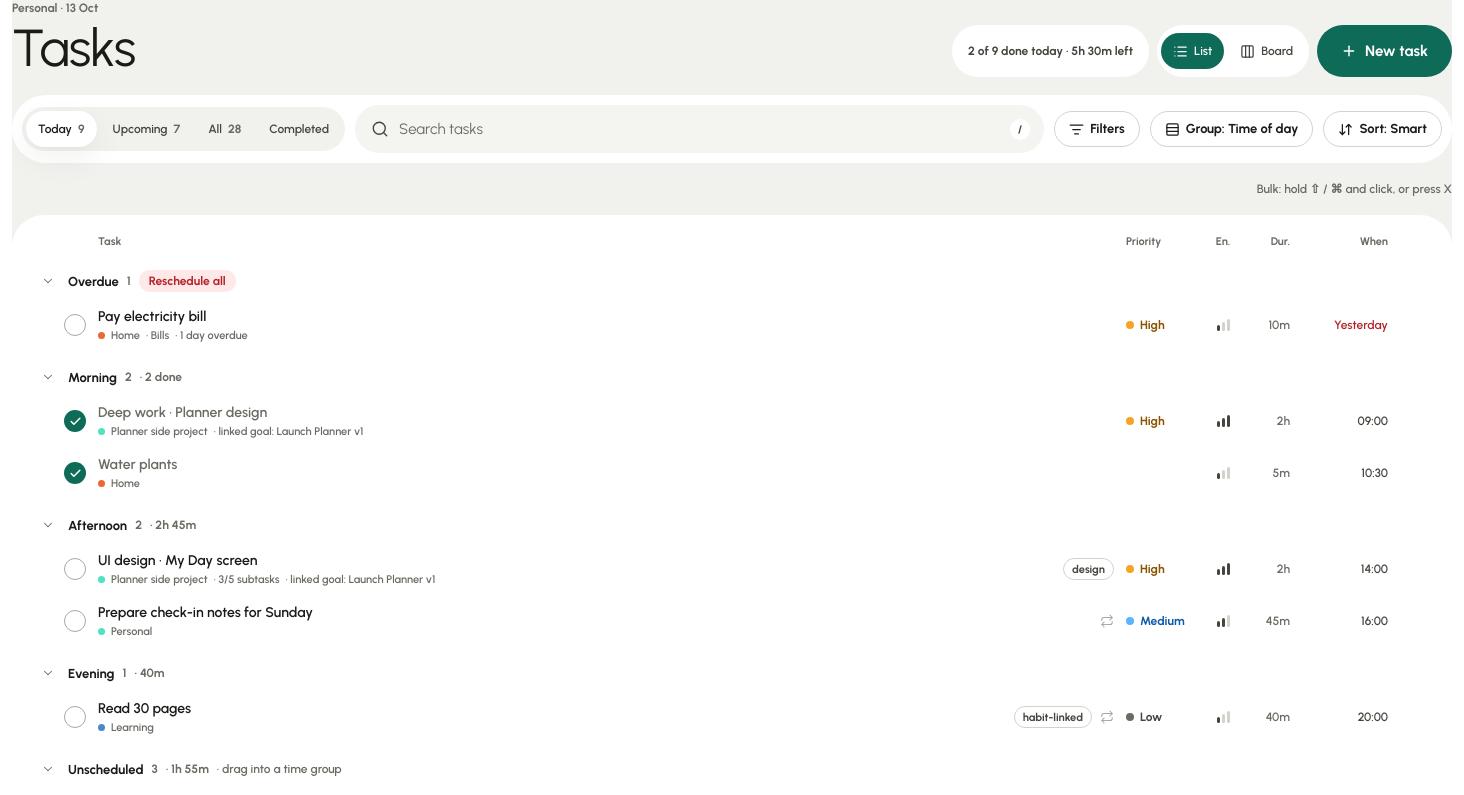
it: TasksScreen › ⌘-click selects; the bulk bar completes the selection with an Undo toast
Type keys "{Control>}"
(page scrolled)
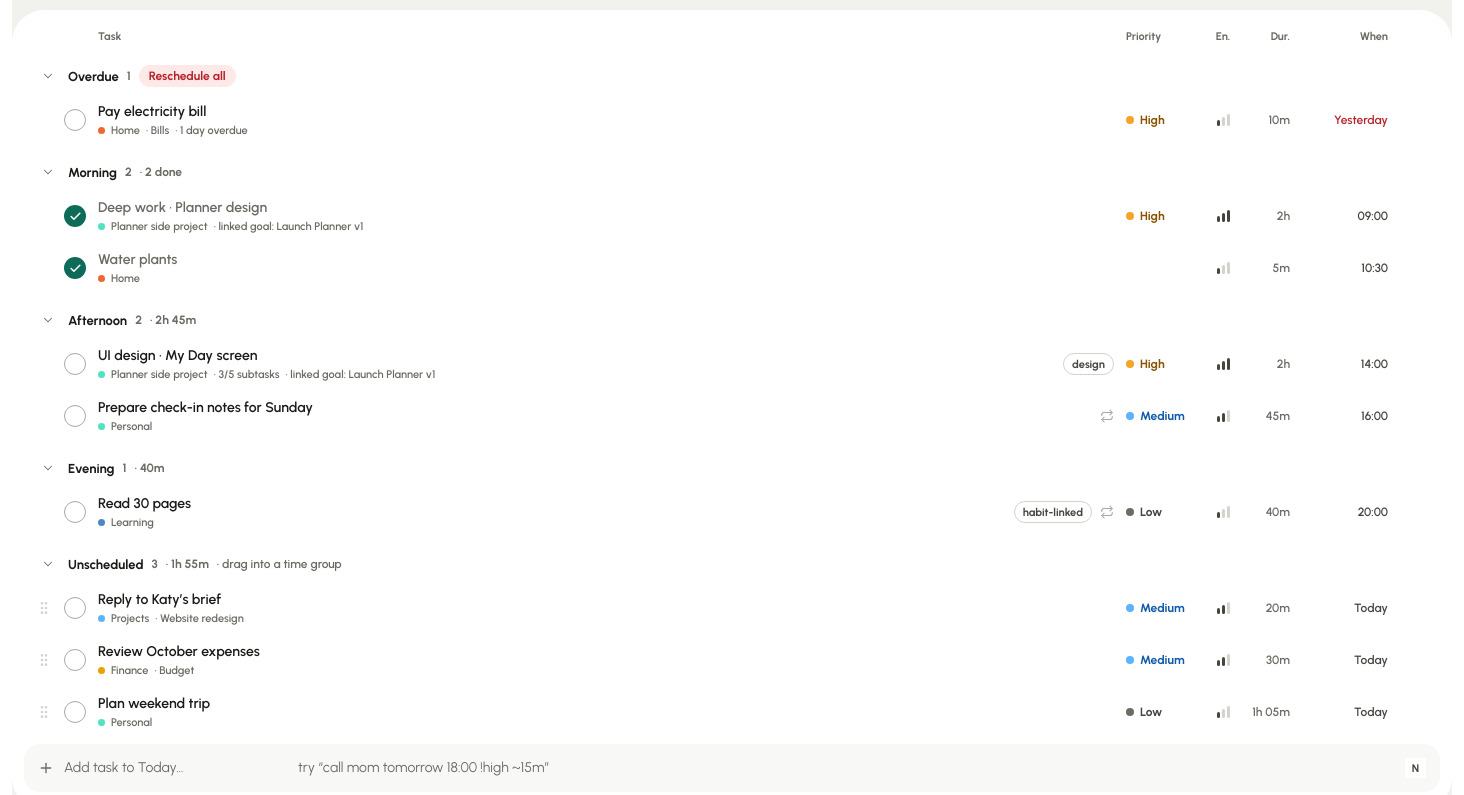
Click the button "Plan weekend trip" at (154, 704), box [98, 694, 210, 714]
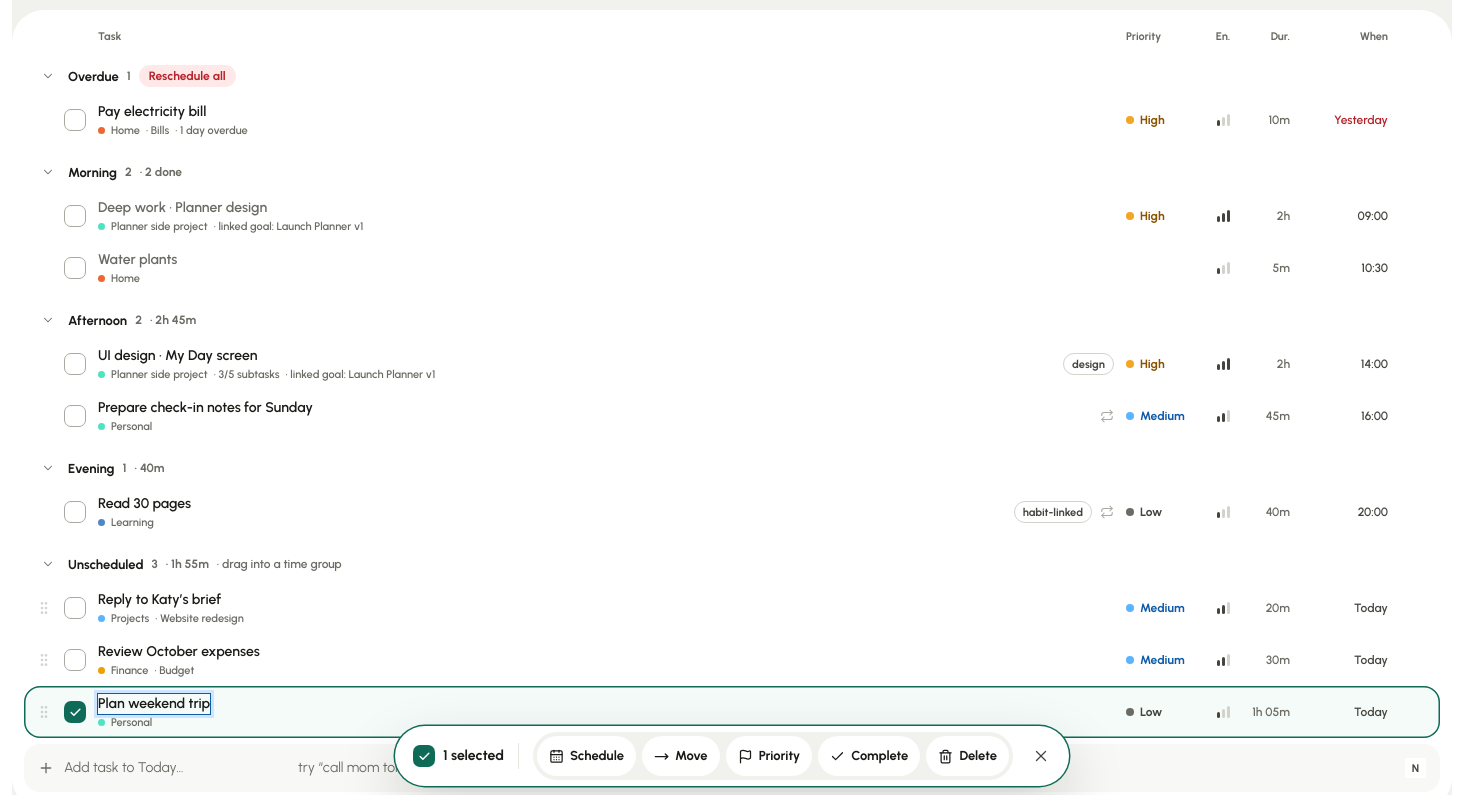
Type keys "{/Control}"
expect the text "1 selected" is shown: met, box [443, 746, 504, 766]
Click the button "Complete" at (869, 756), box [818, 736, 920, 776]
(page scrolled)
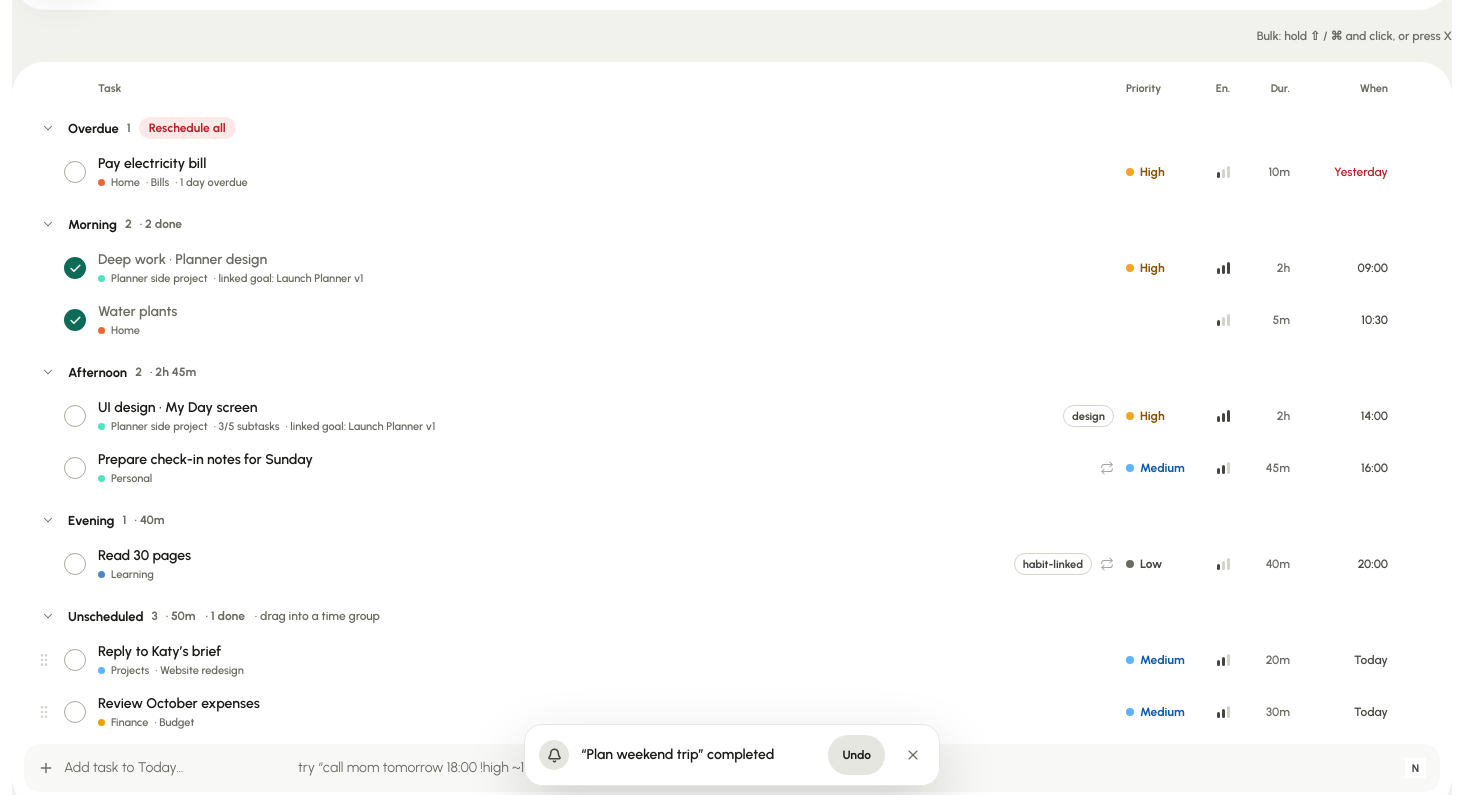
expect the text "“Plan weekend trip” completed" is shown: met, box [581, 746, 774, 763]
expect the button "Undo" is shown: met, box [828, 735, 885, 775]
